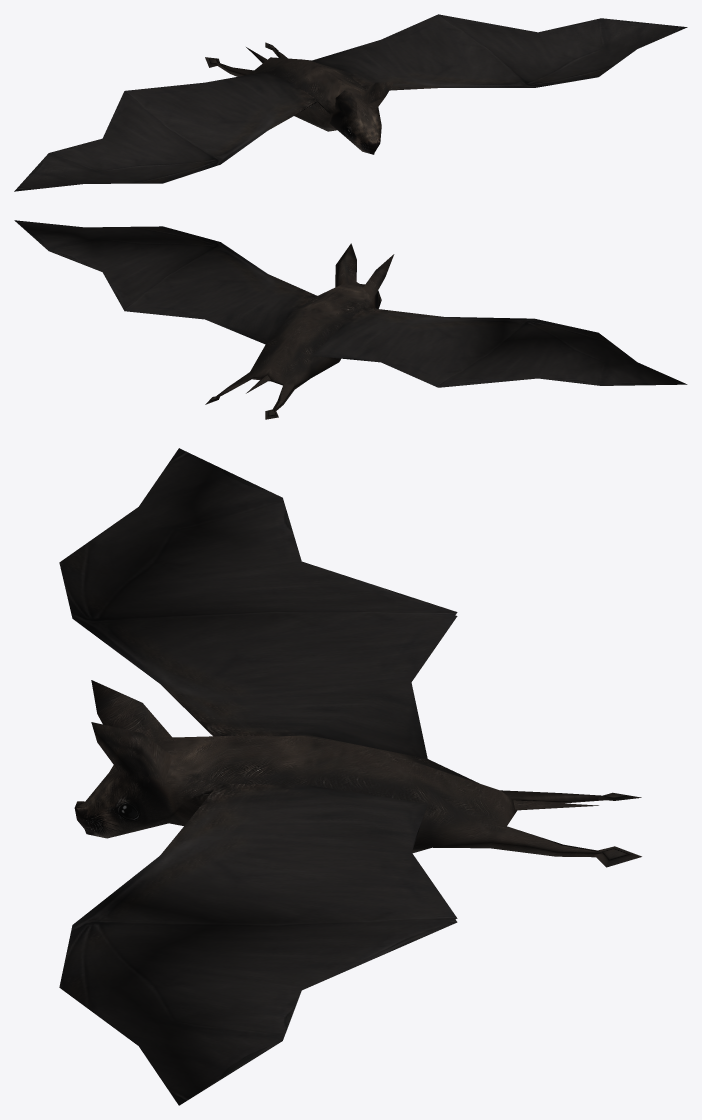
Rendered from Particle_Bat_Model.fbx.
3 views of the same model, one above another, from view 1: azimuth 30°, elevation 25°; view 2: azimuth 150°, elevation 25°; view 3: azimuth 270°, elevation 25° (orthographic). The views are drawn at different scales.
Visible parts, largest first — view 1: BatParticleMesh; view 2: BatParticleMesh; view 3: BatParticleMesh.
Boxes of the visible parts, x1=… form: BatParticleMesh: x1=14, y1=14, x2=687, y2=191; BatParticleMesh: x1=14, y1=220, x2=687, y2=419; BatParticleMesh: x1=59, y1=448, x2=641, y2=1105.
Bounding box in the file's own units: 24.04 × 2.65 × 9.01.
